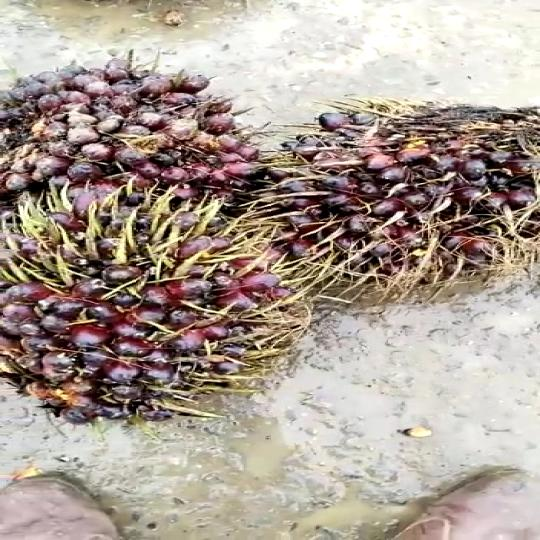kurang masak: (0, 201, 334, 432), (228, 95, 540, 323), (0, 55, 259, 212)
